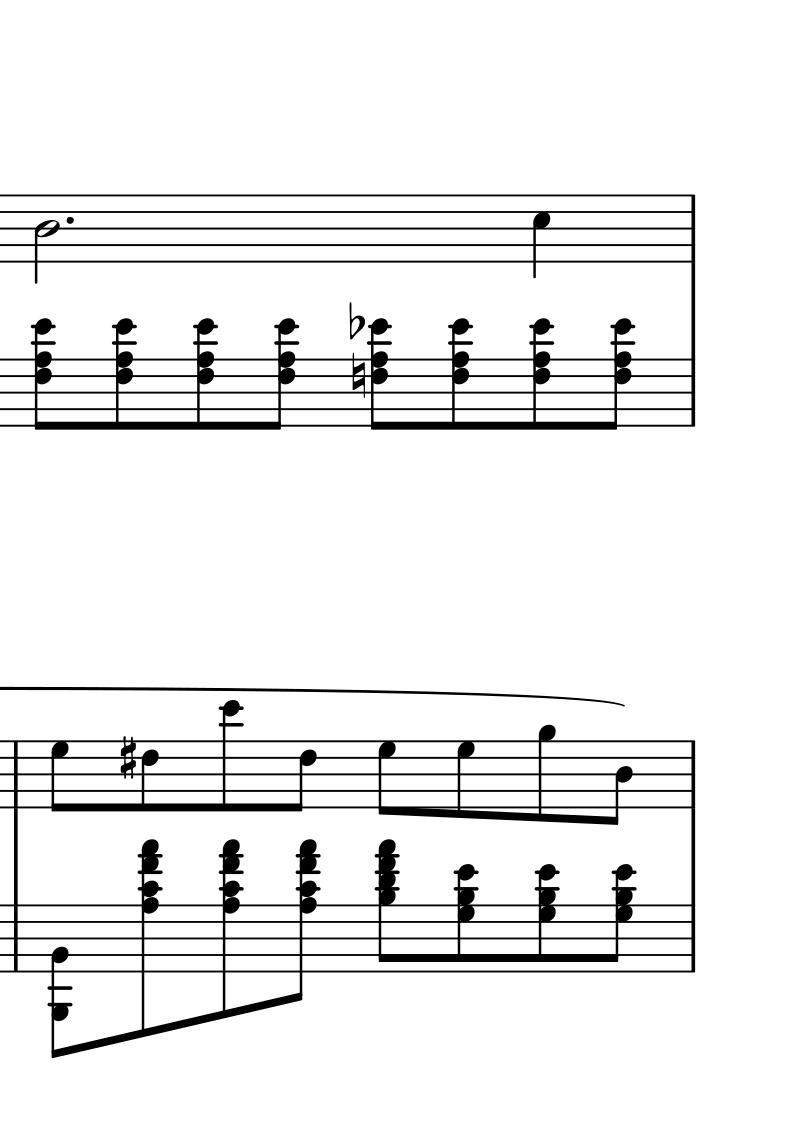2_4: (33, 190, 58, 281)
4_5: (531, 185, 553, 285)
8_12: (219, 698, 243, 814)
8_4: (605, 738, 635, 827)
8_4th: (280, 836, 322, 1008), (135, 836, 162, 1040), (219, 836, 247, 1018), (374, 837, 402, 974)
8_6: (290, 738, 318, 814), (139, 737, 162, 815)
8_7: (455, 738, 479, 820), (377, 737, 400, 817), (50, 738, 72, 813)
8_9: (536, 724, 558, 822)
8_th: (592, 315, 637, 430), (603, 860, 638, 972), (267, 316, 300, 432), (444, 315, 476, 433), (108, 316, 140, 429), (366, 314, 396, 433), (191, 316, 222, 429), (453, 861, 484, 973), (526, 316, 556, 431), (533, 860, 562, 974), (30, 317, 58, 429)
Flat: (345, 297, 368, 342)
Natural: (350, 351, 368, 403)
Sharp: (121, 734, 138, 780)
Single_barline: (6, 905, 26, 971), (682, 359, 701, 426), (683, 196, 702, 263), (7, 741, 26, 807), (683, 905, 700, 972), (685, 740, 700, 809)
dot: (63, 212, 77, 228)
